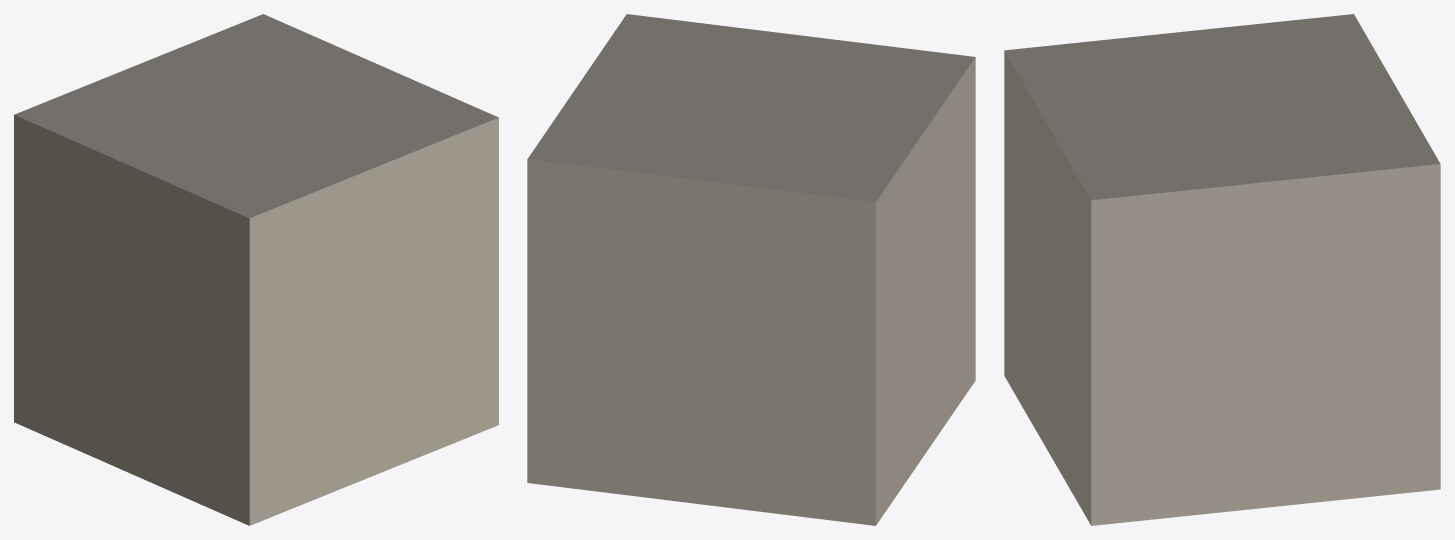
The picture shows the model from 3 angles, left to right: view 1: azimuth 30°, elevation 25°; view 2: azimuth 150°, elevation 25°; view 3: azimuth 270°, elevation 25°; orthographic projection. The views are drawn at different scales.
Parts seen in each view (by area): view 1: HP-w378107147; view 2: HP-w378107147; view 3: HP-w378107147.
Part boxes in pixels (x1,y1,x2,y2): HP-w378107147: (14, 14, 498, 525); HP-w378107147: (527, 14, 975, 525); HP-w378107147: (1004, 14, 1440, 525).
Size of the model in its own units: 18.41 by 15 by 18.21.
